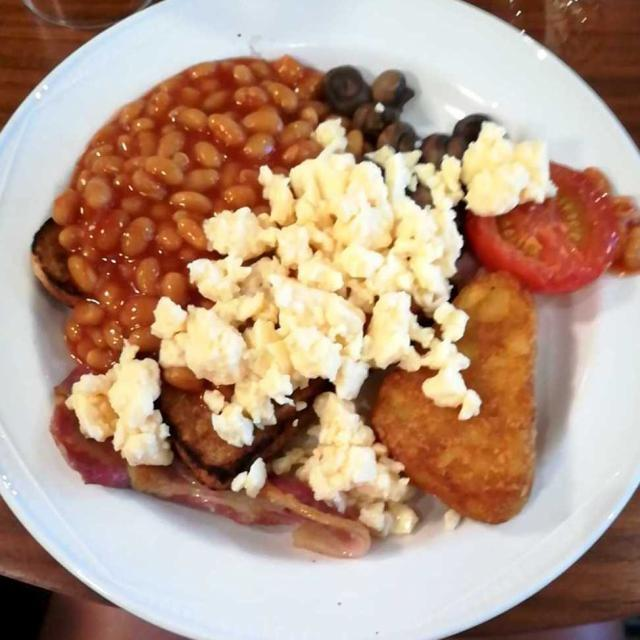bacon: (119, 453, 372, 555)
bread: (31, 205, 86, 320)
eggs: (57, 115, 543, 541)
mushrooms: (319, 64, 487, 165)
rosti: (386, 270, 561, 533)
tomato: (457, 170, 620, 304)
